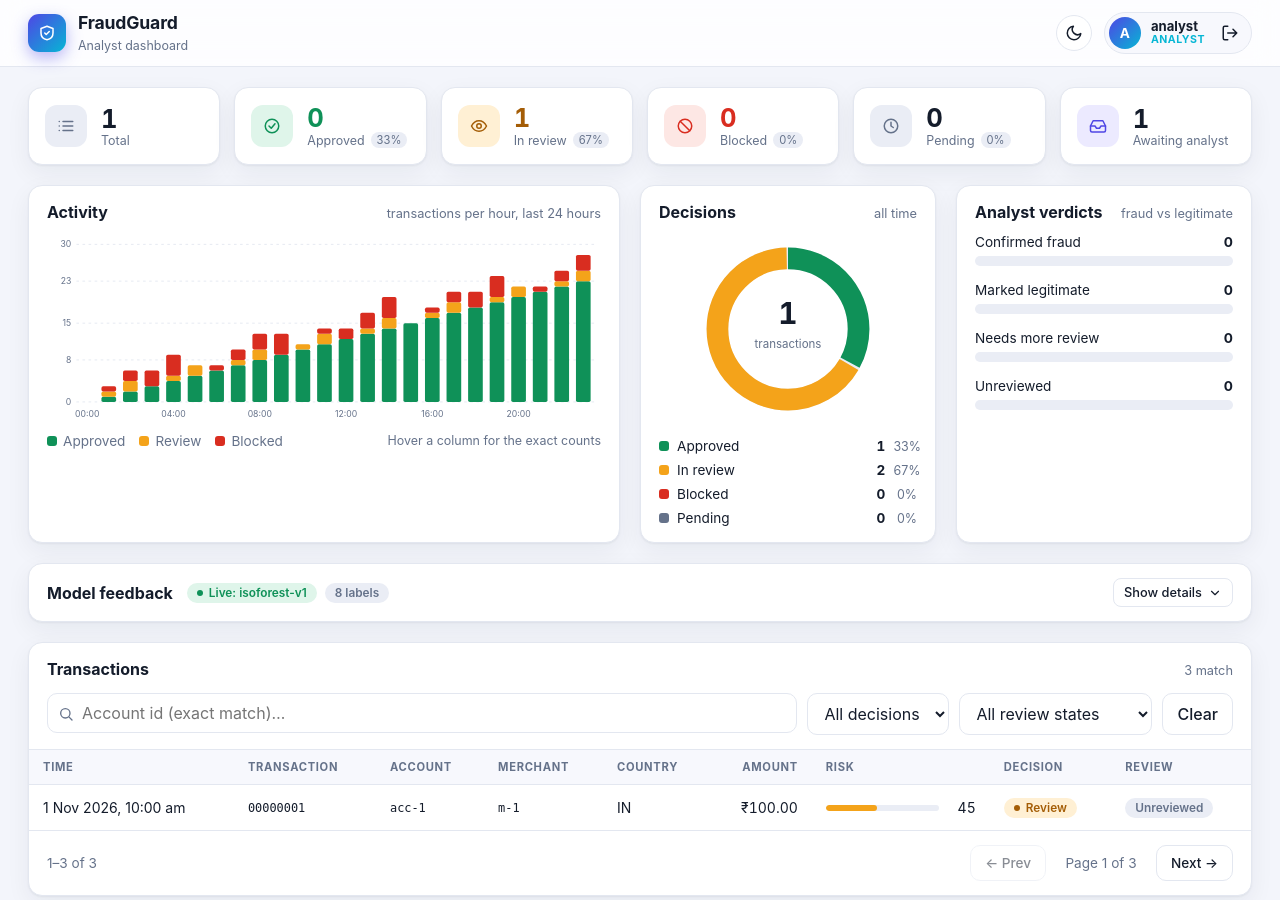
it: transaction list › pages forward and back
expect the text "acc-1" is shown: met, box [376,785,484,831]
Click the button "Next →" at (1194,863), box [1156,845,1233,881]
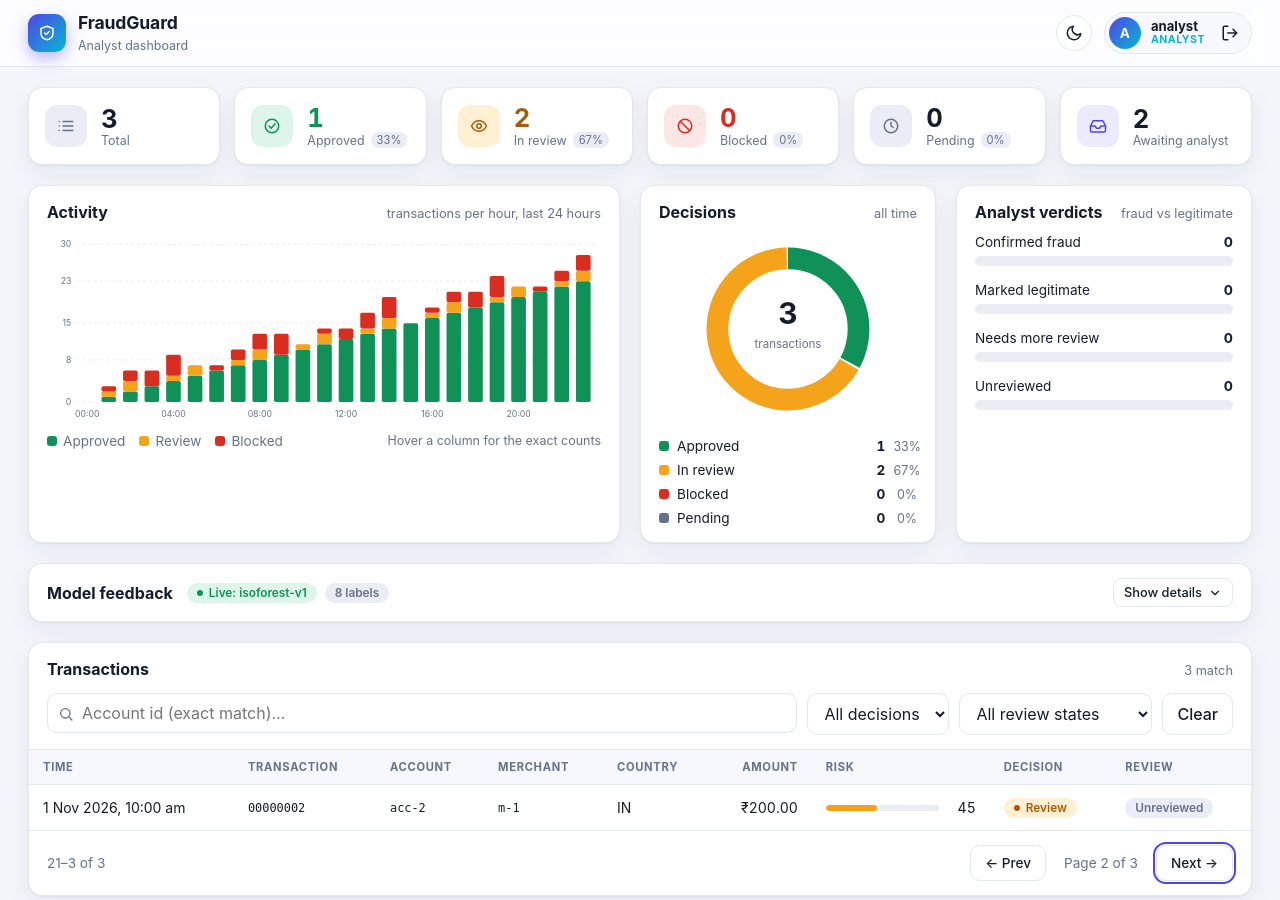
expect the text "acc-2" is shown: met, box [376,785,484,831]
expect the text "Page 2 of 3" is shown: met, box [1064,855,1138,871]
Click the button "← Prev" at (1008,863), box [970,845,1046,881]
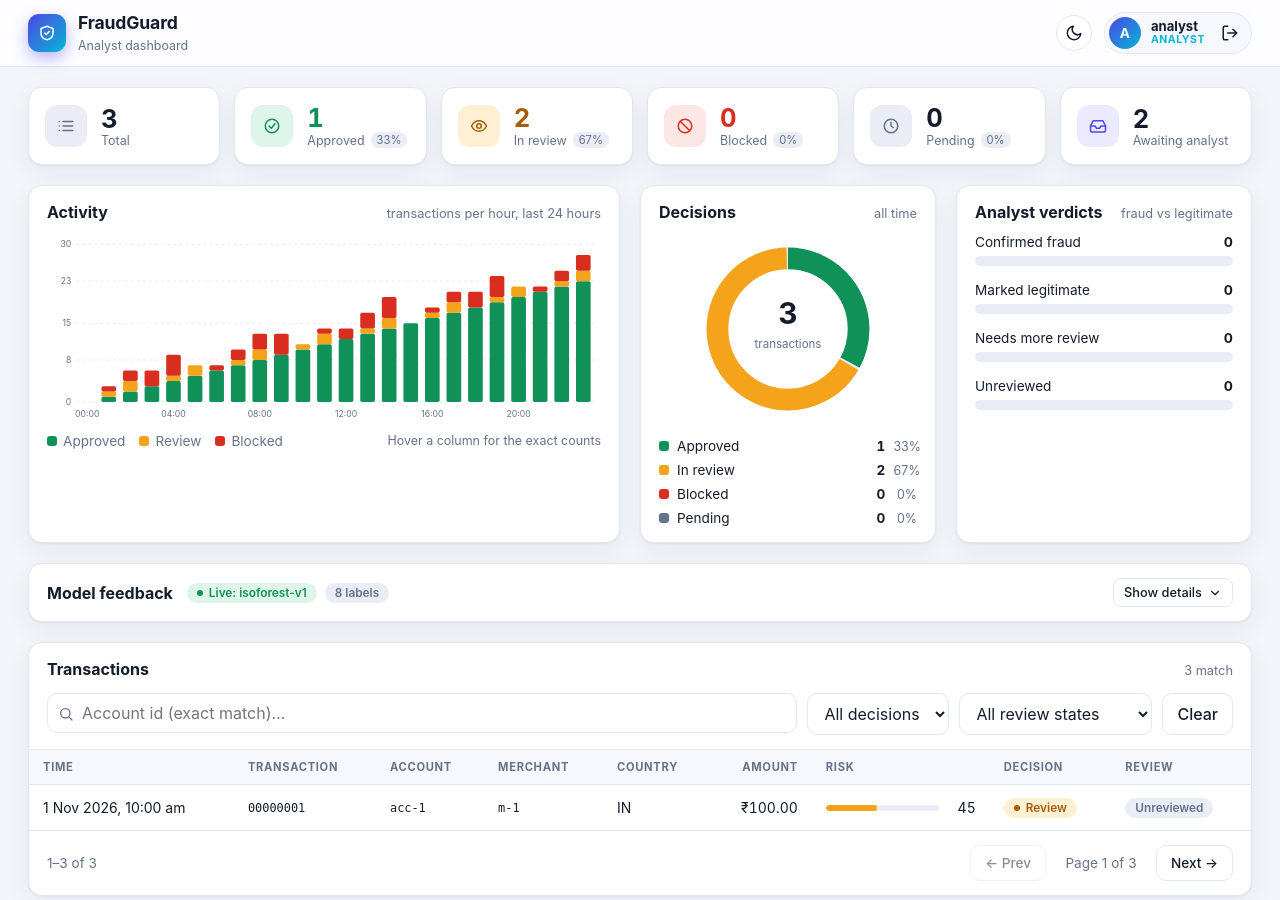
expect the text "acc-1" is shown: met, box [376,785,484,831]
